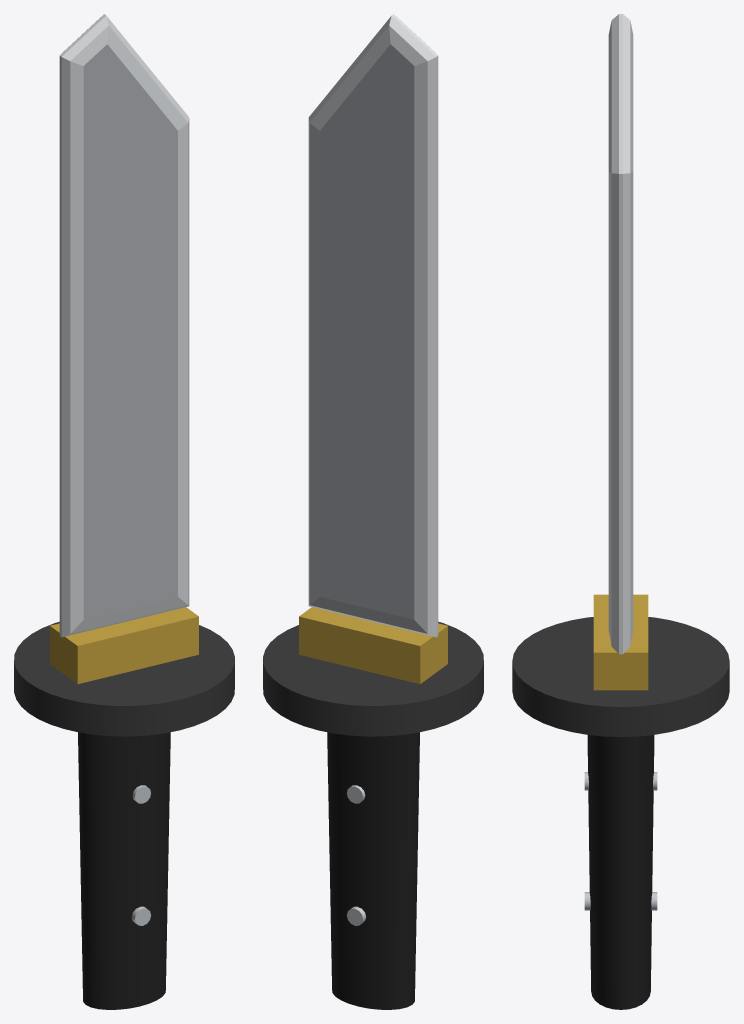
The model's file is 05_Common_Plain_Tanto.glb.
3 renders of one model, left to right at view 1: azimuth 30°, elevation 25°; view 2: azimuth 150°, elevation 25°; view 3: azimuth 270°, elevation 25°, orthographic.
Visible parts, largest first — view 1: blade_2, handle_3, tsuba_0, habaki_1; view 2: blade_2, handle_3, tsuba_0, habaki_1; view 3: tsuba_0, handle_3, blade_2, habaki_1.
Boxes of the visible parts, box(x1,y1,x2,y2) form: blade_2: box(59, 14, 189, 637); handle_3: box(78, 732, 170, 1009); tsuba_0: box(14, 621, 234, 736); habaki_1: box(50, 607, 198, 683); blade_2: box(308, 14, 438, 637); handle_3: box(327, 732, 419, 1009); tsuba_0: box(263, 621, 483, 736); habaki_1: box(299, 607, 447, 683); tsuba_0: box(512, 617, 729, 736); handle_3: box(587, 735, 654, 1009); blade_2: box(608, 14, 633, 654); habaki_1: box(593, 594, 648, 690).
Bounding box in the file's own units: 0.105 × 0.516 × 0.105.
7 materials, 7 textured.
